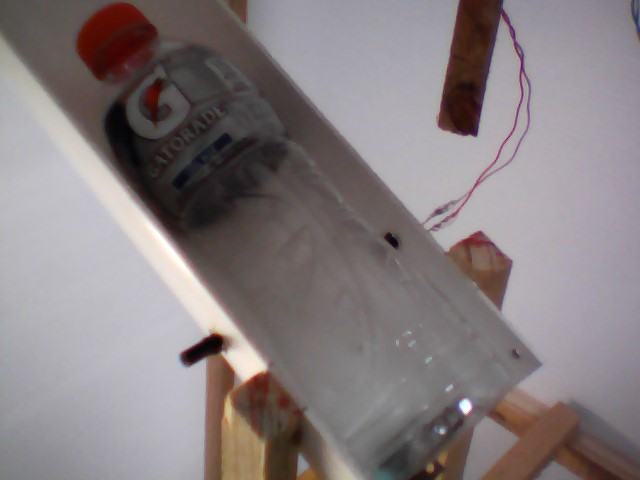plastico: (76, 4, 512, 480)
